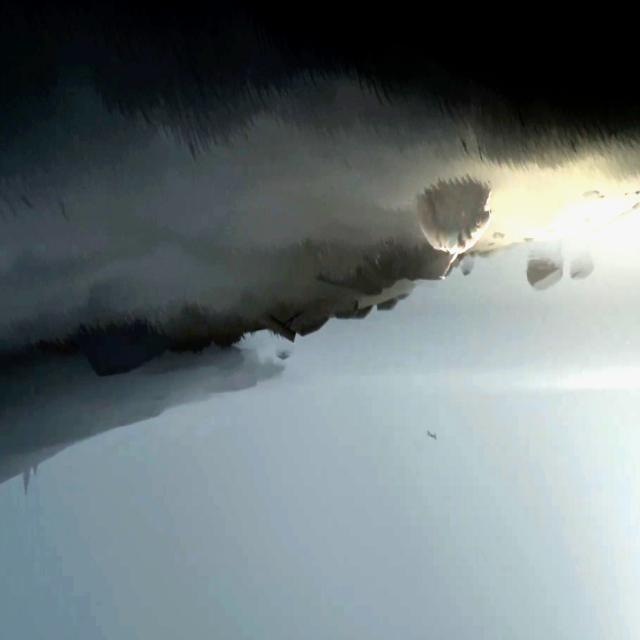blob: (416, 178, 494, 254)
